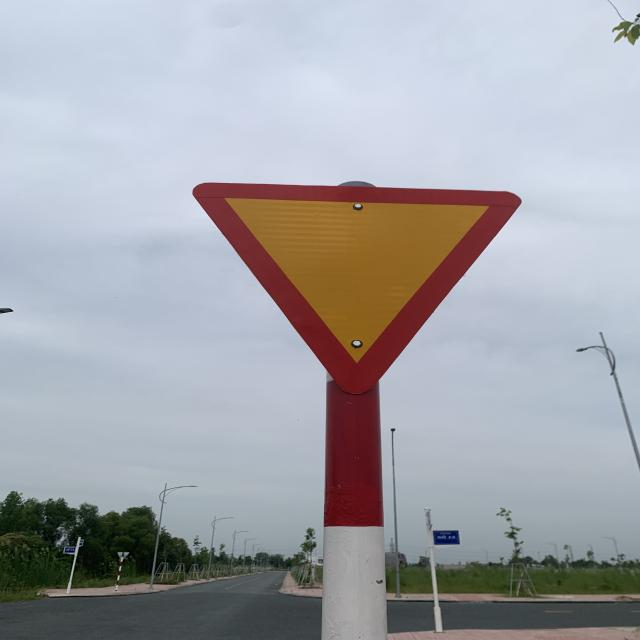Gioi_Han_Toc_Do_25: (192, 181, 524, 393)
